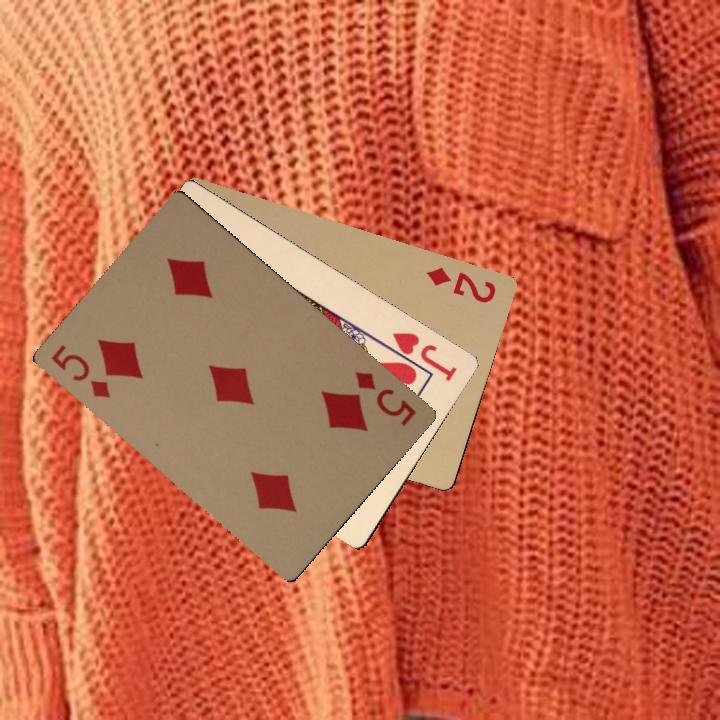2d: (422, 263, 499, 306)
5d: (351, 367, 419, 429), (46, 341, 114, 401)
Jh: (379, 328, 460, 384)
